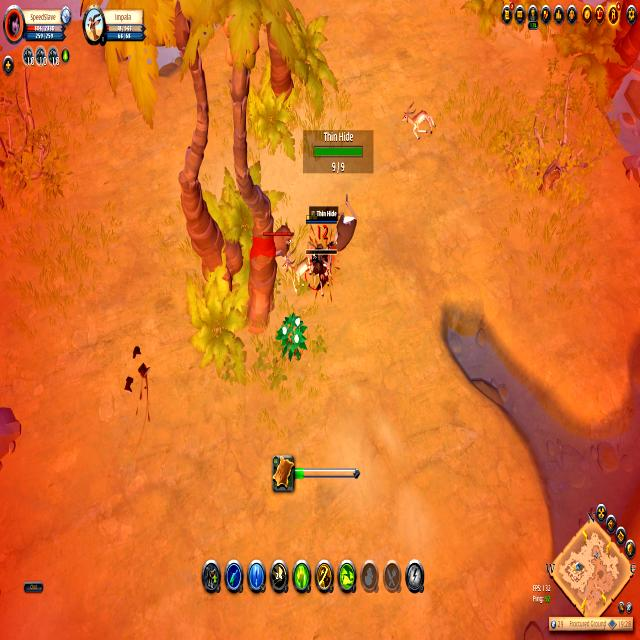hide: (278, 310, 306, 361)
mob: (324, 192, 358, 253), (402, 101, 436, 140)
ore: (248, 219, 294, 273), (306, 248, 338, 258)
red: (307, 240, 333, 295)
